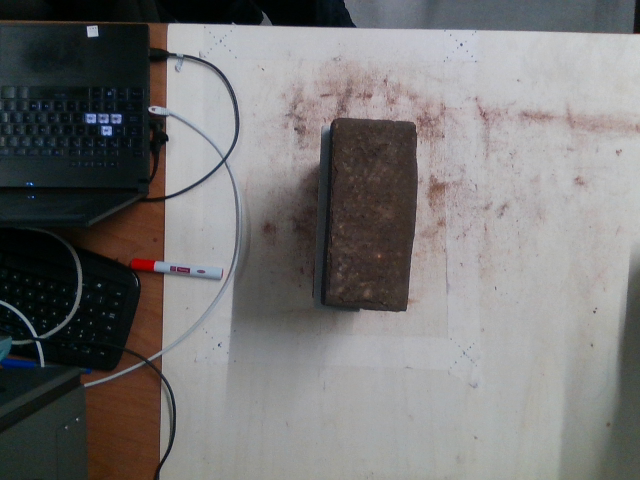brick: (333, 119, 412, 310)
